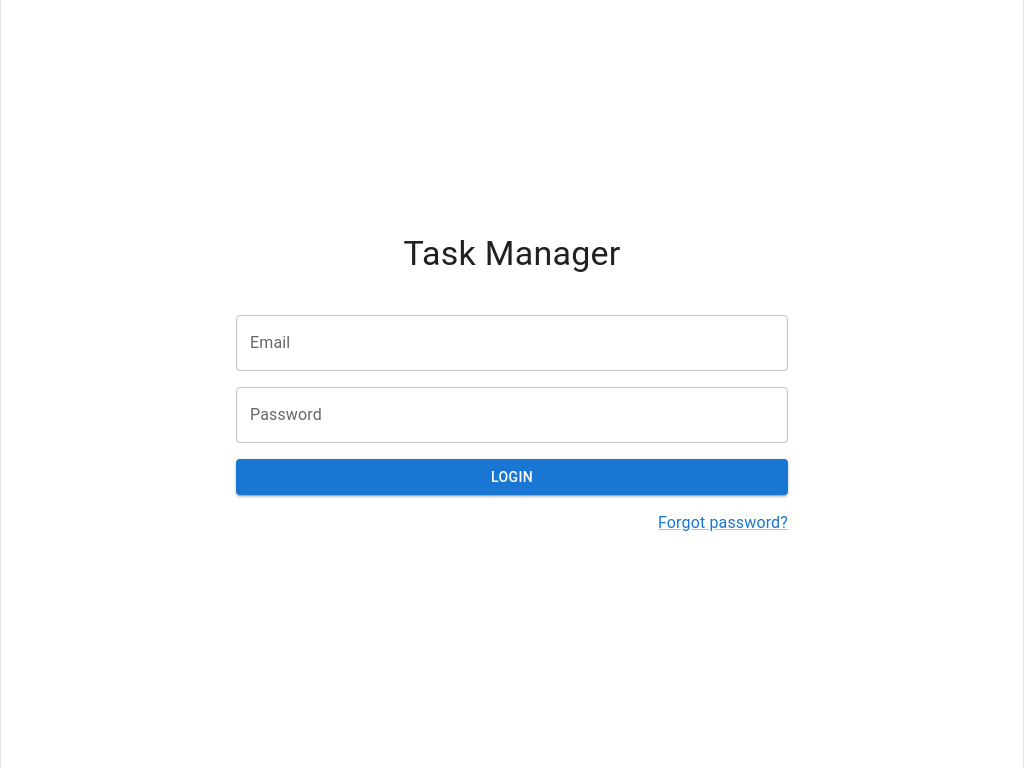
Test: Login Component › shows error when email or password is missing
Click the button "Login" at (512,477), box [236,459,788,495]
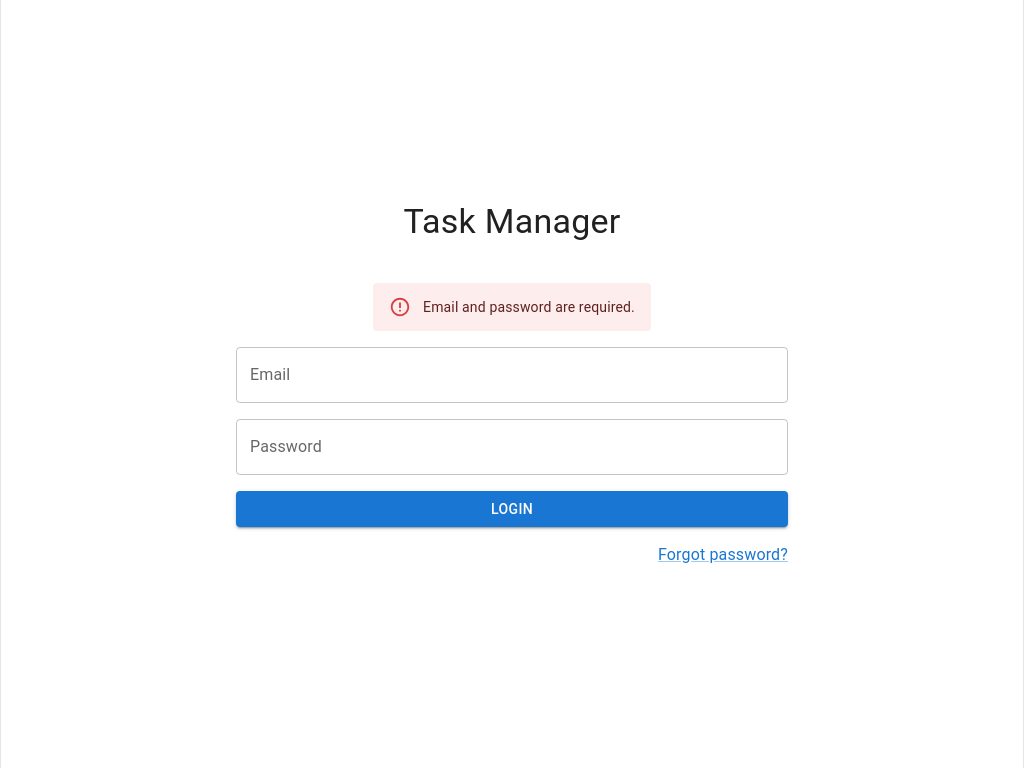
expect the text "Email and password are required." is shown: met, box [423,299,635,315]
